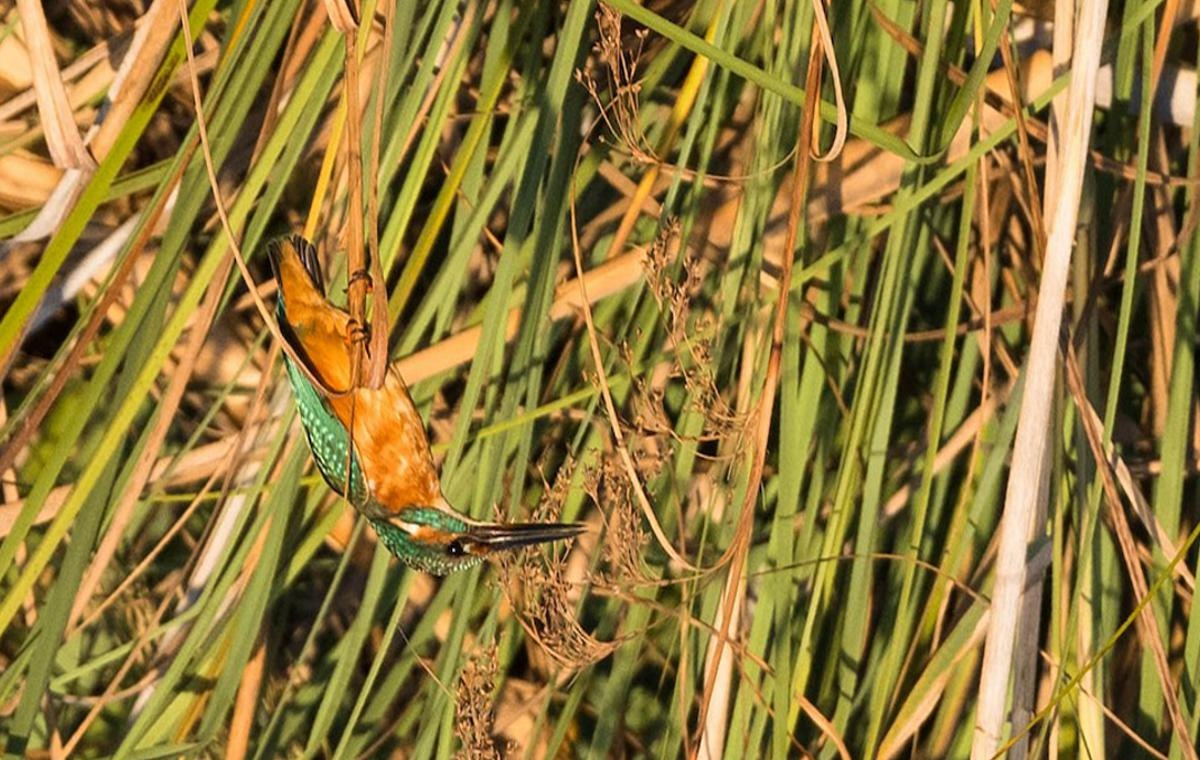kingfisher: (240, 218, 592, 571)
